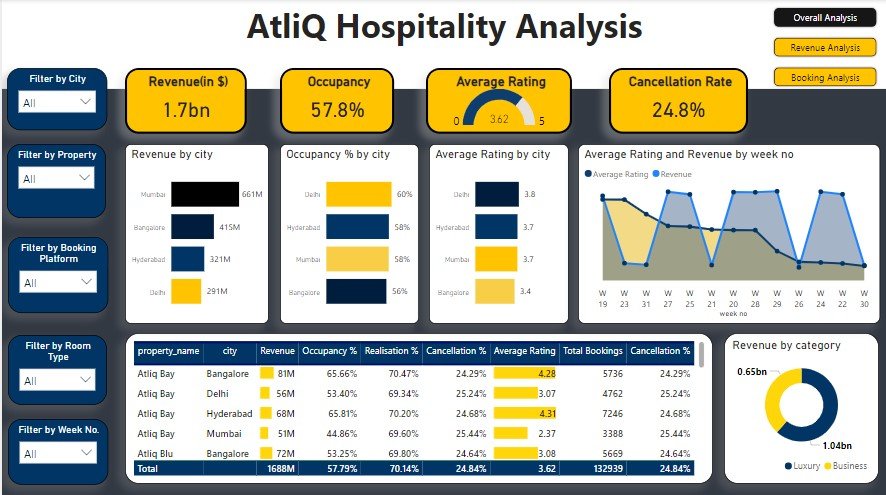

This screenshot's page, from the dashboard's own definition file:
{"tool":"powerbi","page":{"name":"Overall Analysis","canvas":[1280,720],"ordinal":0},"visuals":[{"type":"tableEx","fields":{"Values":["dim_hotels.property_name","dim_hotels.city","BaseMeasures.Revenue","BaseMeasures.Occupancy %","BaseMeasures.Realisation %","BaseMeasures.Cancellation %","BaseMeasures.Average Rating","BaseMeasures.Total Bookings","BaseMeasures.Cancellation %"]},"box":[177.8,482.9,850.1,218.3],"z":0},{"type":"donutChart","fields":{"Category":["dim_hotels.category"],"Y":["BaseMeasures.Revenue"]},"box":[1043.9,482.9,224.1,218.3],"z":1000},{"type":"textbox","box":[0,0,1279.5,130.1],"z":2000},{"type":"slicer","title":"Filter by Booking Platform","fields":{"Values":["fact_bookings.booking_platform"]},"box":[8.6,344,144.6,109.9],"z":2000,"group":"g1"},{"type":"card","title":"Revenue(in $)","fields":{"Values":["BaseMeasures.Revenue"]},"box":[177.8,99.8,176.4,95.4],"z":3000},{"type":"card","title":"Cancellation Rate","fields":{"Values":["BaseMeasures.Cancellation %"]},"box":[877.6,99.8,201,95.4],"z":4000},{"type":"slicer","title":"Filter by Room Type","fields":{"Values":["dim_rooms.room_class"]},"box":[8.2,485.9,143.2,101.3],"z":4000,"group":"g1"},{"type":"card","title":"Occupancy","fields":{"Values":["BaseMeasures.Occupancy %"]},"box":[401.9,99.8,164.8,95.4],"z":5000},{"type":"gauge","fields":{"Y":["BaseMeasures.Average Rating"]},"box":[613,99.8,211.1,95.4],"z":6000},{"type":"slicer","title":"Filter by Week No.","fields":{"Values":["dim_date.week no"]},"box":[8.6,606.6,144.6,94.6],"z":6000,"group":"g1"},{"type":"barChart","fields":{"Y":["BaseMeasures.Revenue"],"Category":["dim_hotels.city"]},"box":[177.8,209.6,208.2,260.2],"z":7000},{"type":"slicer","title":"Filter by City","fields":{"Values":["dim_hotels.city"]},"box":[7.2,99.8,144.6,90.1],"z":8000,"group":"g1"},{"type":"barChart","fields":{"Category":["dim_hotels.city"],"Y":["BaseMeasures.Occupancy %"]},"box":[401.9,209.6,201,260.2],"z":8000},{"type":"barChart","fields":{"Category":["dim_hotels.city"],"Y":["BaseMeasures.Average Rating"]},"box":[617.3,209.6,202.4,260.2],"z":9000},{"type":"slicer","title":"Filter by Property ","fields":{"Values":["dim_hotels.property_name"]},"box":[7.2,209.7,143.1,106.9],"z":10000,"group":"g1"},{"type":"areaChart","fields":{"Category":["dim_date.week no"],"Y2":["BaseMeasures.Revenue"],"Y":["BaseMeasures.Average Rating"]},"box":[832.8,209.6,436.6,260.2],"z":10000},{"type":"group","id":"g1","title":"Group 1","box":[7.2,99.8,146,601.4],"z":11000},{"type":"pageNavigator","box":[1113.3,10.1,154.7,120],"z":12000}]}

Visuals, with their boxes in screenshot pixels (x1, y1, x2, y2), scaled from the page's 1280x720 canvas onto the 886x495 screenshot:
tableEx - dim_hotels.property_name x dim_hotels.city: (123,332,711,482)
donutChart - dim_hotels.category x BaseMeasures.Revenue: (723,332,878,482)
textbox: (0,0,885,89)
"Filter by Booking Platform" slicer: (6,236,106,312)
"Revenue(in $)" card: (123,69,245,134)
"Cancellation Rate" card: (607,69,747,134)
"Filter by Room Type" slicer: (6,334,105,404)
"Occupancy" card: (278,69,392,134)
gauge - BaseMeasures.Average Rating: (424,69,570,134)
"Filter by Week No." slicer: (6,417,106,482)
barChart - BaseMeasures.Revenue x dim_hotels.city: (123,144,267,323)
"Filter by City" slicer: (5,69,105,131)
barChart - dim_hotels.city x BaseMeasures.Occupancy %: (278,144,417,323)
barChart - dim_hotels.city x BaseMeasures.Average Rating: (427,144,567,323)
"Filter by Property " slicer: (5,144,104,218)
areaChart - dim_date.week no x BaseMeasures.Revenue: (576,144,879,323)
"Group 1" group: (5,69,106,482)
pageNavigator: (771,7,878,89)
